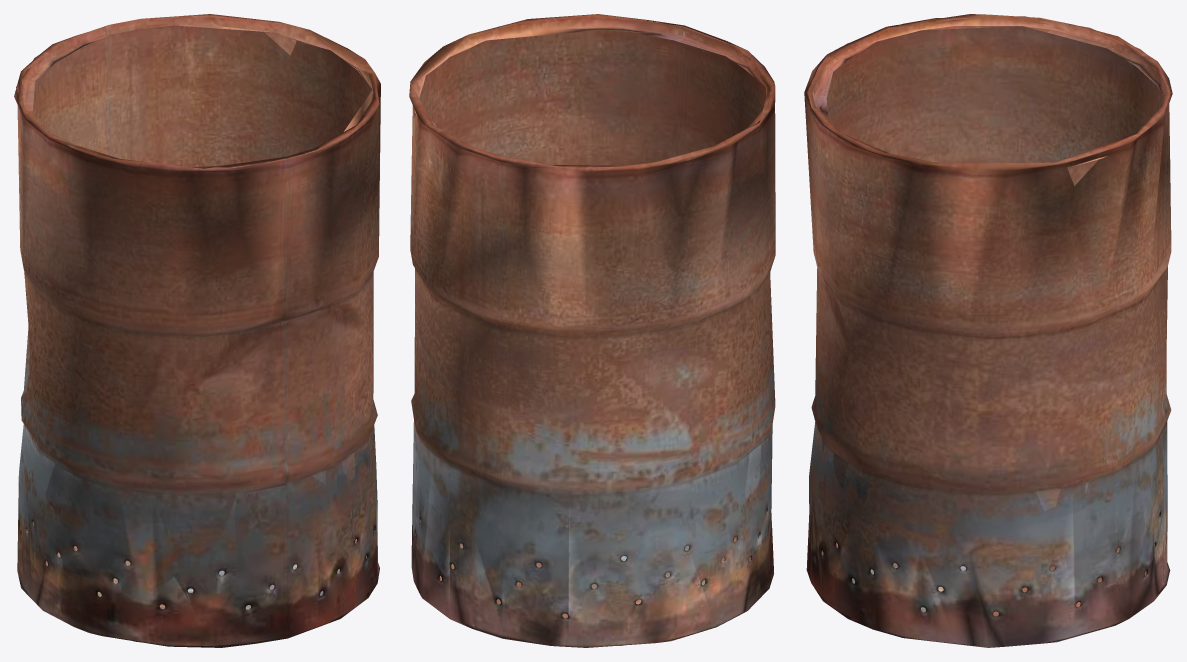
File: barrel_stove.glb
The picture shows the model from 3 angles, left to right: view 1: azimuth 30°, elevation 25°; view 2: azimuth 150°, elevation 25°; view 3: azimuth 270°, elevation 25°; orthographic projection.
Parts seen in each view (by area): view 1: barrel_stove; view 2: barrel_stove; view 3: barrel_stove.
Part boxes in pixels (x1,y1,x2,y2): barrel_stove: [14, 14, 380, 647]; barrel_stove: [409, 14, 775, 647]; barrel_stove: [804, 14, 1172, 647].
Bounding box in the file's own units: 0.5886 × 0.8556 × 0.5926.
1 material, 1 textured.
